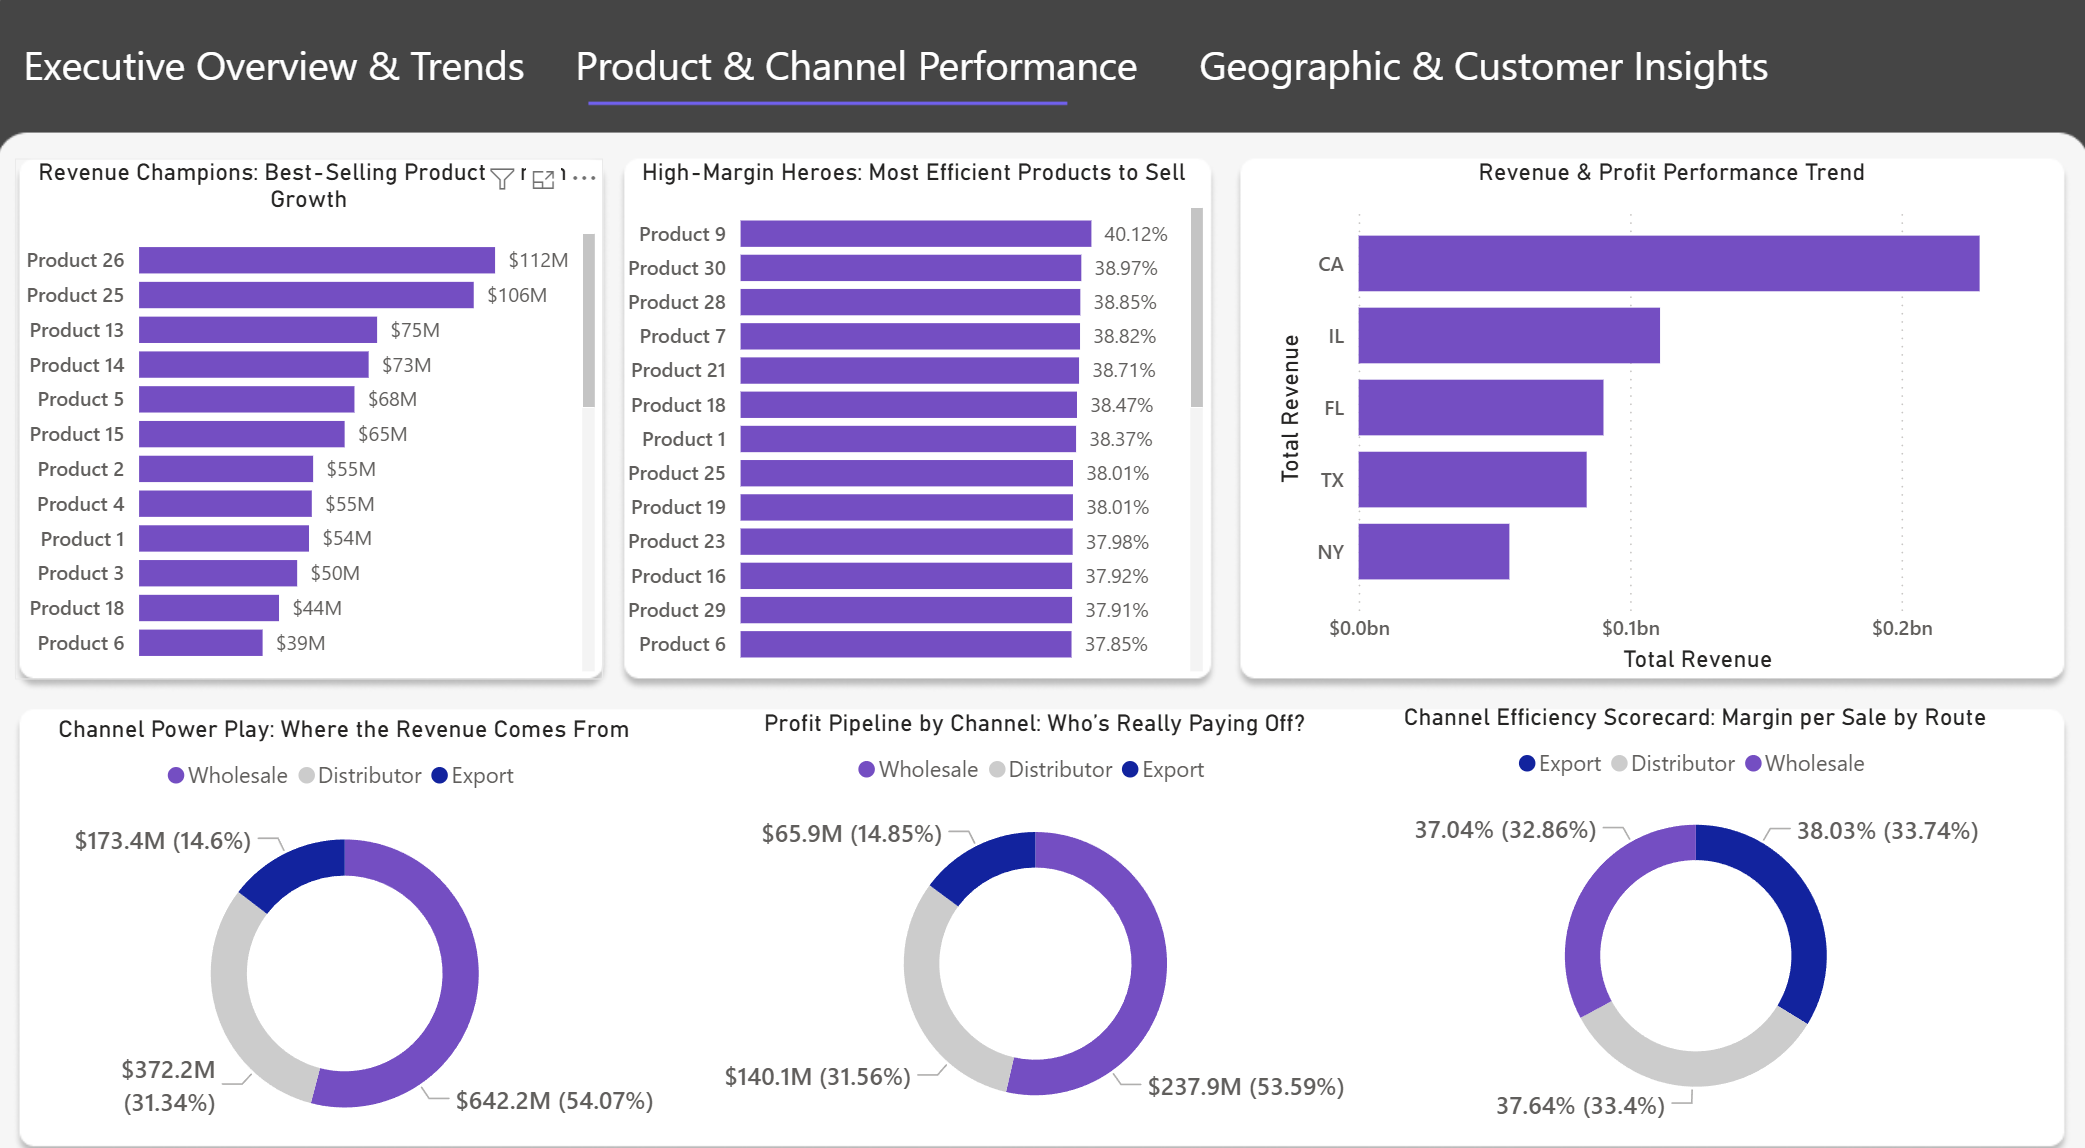

What the dashboard file says about the page in this screenshot:
{"tool":"powerbi","page":{"name":"Product & Channel Performance","canvas":[1280,720],"ordinal":1},"visuals":[{"type":"image","box":[0,0,1280.4,720.3],"z":0},{"type":"barChart","title":"Revenue Champions: Best-Selling Products Driving Growth","fields":{"Y":["Sales_data.Total Revenue"],"Category":["Sales_data.product_name"]},"box":[16,103,357,316],"z":1000},{"type":"barChart","title":"High-Margin Heroes: Most Efficient Products to Sell","fields":{"Category":["Sales_data.product_name"],"Y":["Sales_data.Profit Margin %"]},"box":[382,103,361,316.5],"z":2000},{"type":"donutChart","title":"Channel Power Play: Where the Revenue Comes From","fields":{"Y":["Sales_data.Total Revenue"],"Category":["Sales_data.channel"]},"box":[13.1,440.6,407,267.8],"z":3000},{"type":"donutChart","title":"Profit Pipeline by Channel: Who’s Really Paying Off?","fields":{"Category":["Sales_data.channel"],"Y":["Sales_data.Total Profit"]},"box":[427.8,437.1,415.1,263.2],"z":4000},{"type":"donutChart","title":"Channel Efficiency Scorecard: Margin per Sale by Route","fields":{"Y":["Sales_data.Profit Margin %"],"Category":["Sales_data.channel"]},"box":[815.1,433.6,442.9,260.9],"z":5000},{"type":"barChart","title":"Revenue & Profit Performance Trend","fields":{"Y":["Sales_data.Total Revenue"],"Category":["Sales_data.state"]},"box":[776.8,102.6,490.9,315.9],"z":6000},{"type":"textbox","box":[16.4,23.2,335,60.2],"z":7000},{"type":"textbox","box":[351.5,23.2,395.2,60.2],"z":8000},{"type":"textbox","box":[730.3,23.2,378.8,60.2],"z":9000},{"type":"actionButton","box":[16.4,12.3,324.1,71.1],"z":10000},{"type":"actionButton","box":[730.3,23.2,378.8,49.2],"z":11000}]}

Visuals, with their boxes in screenshot pixels (x1, y1, x2, y2), scaled from the page's 1280x720 canvas onto the 2085x1148 screenshot:
image: [x1=0, y1=0, x2=2084, y2=1147]
"Revenue Champions: Best-Selling Products Driving Growth" barChart: [x1=26, y1=164, x2=608, y2=668]
"High-Margin Heroes: Most Efficient Products to Sell" barChart: [x1=622, y1=164, x2=1210, y2=669]
"Channel Power Play: Where the Revenue Comes From" donutChart: [x1=21, y1=703, x2=684, y2=1130]
"Profit Pipeline by Channel: Who’s Really Paying Off?" donutChart: [x1=697, y1=697, x2=1373, y2=1117]
"Channel Efficiency Scorecard: Margin per Sale by Route" donutChart: [x1=1328, y1=691, x2=2049, y2=1107]
"Revenue & Profit Performance Trend" barChart: [x1=1265, y1=164, x2=2065, y2=667]
textbox: [x1=27, y1=37, x2=572, y2=133]
textbox: [x1=573, y1=37, x2=1216, y2=133]
textbox: [x1=1190, y1=37, x2=1807, y2=133]
actionButton: [x1=27, y1=20, x2=555, y2=133]
actionButton: [x1=1190, y1=37, x2=1807, y2=115]
